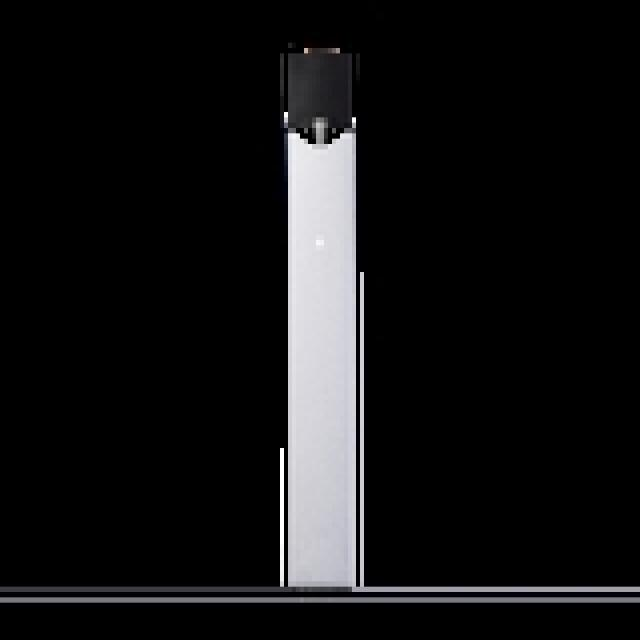Hazard: (276, 37, 364, 587)
